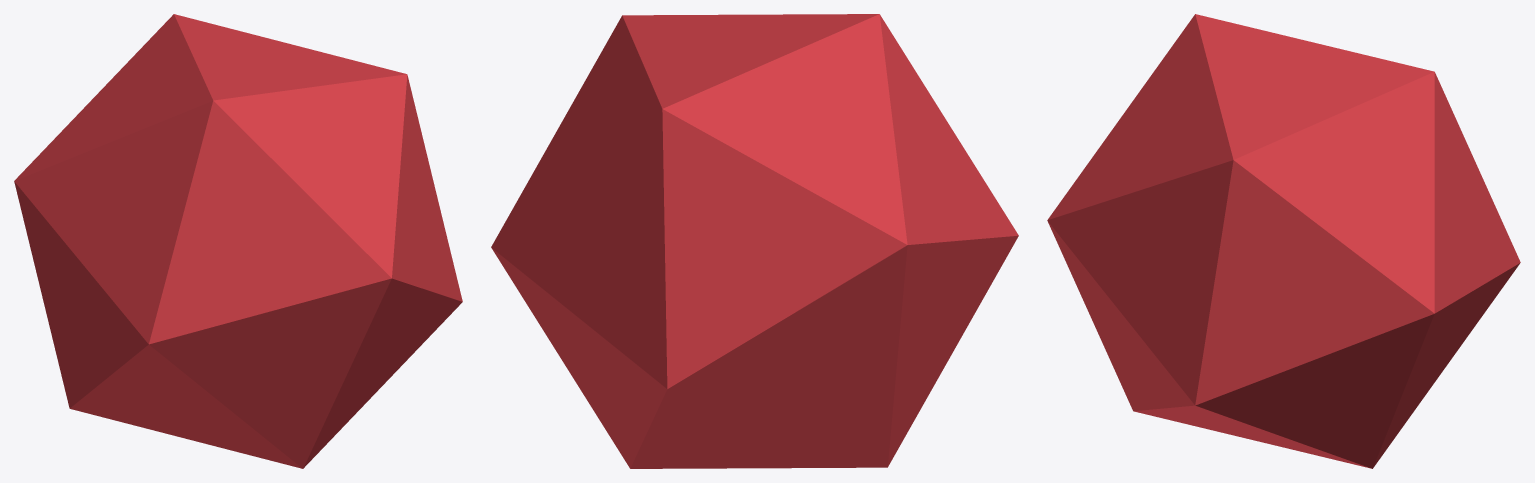
File: cry_berry_01_dylan.fbx
The picture shows the model from 3 angles, left to right: view 1: azimuth 30°, elevation 25°; view 2: azimuth 150°, elevation 25°; view 3: azimuth 270°, elevation 25°; orthographic projection. The views are drawn at different scales.
Parts seen in each view (by area): view 1: BushBerry02; view 2: BushBerry02; view 3: BushBerry02.
Part boxes in pixels (box(x1,y1,x2,y2)): BushBerry02: box(14, 14, 462, 468); BushBerry02: box(491, 14, 1018, 468); BushBerry02: box(1047, 14, 1520, 468).
Size of the model in its own units: 10.76 by 10.78 by 11.96.
